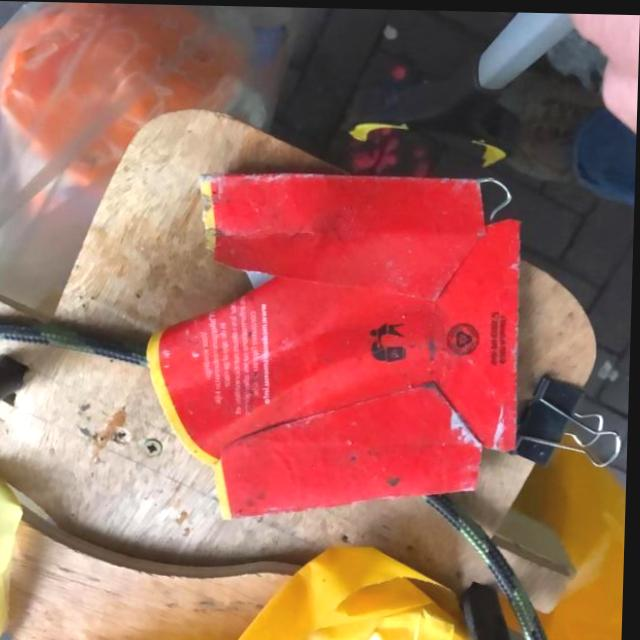Paper: (140, 161, 528, 525)
